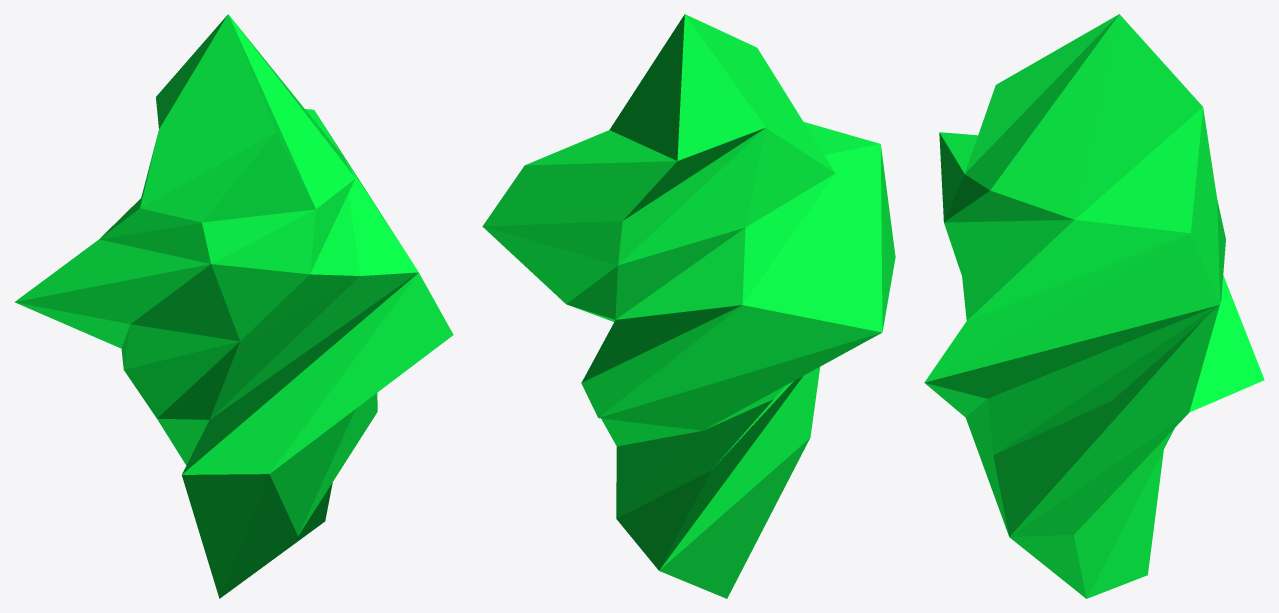
File: Crystal_027.fbx
3 views of the same model, side by side, from view 1: azimuth 30°, elevation 25°; view 2: azimuth 150°, elevation 25°; view 3: azimuth 270°, elevation 25° (orthographic). The views are drawn at different scales.
Parts seen in each view (by area): view 1: Crystal.027; view 2: Crystal.027; view 3: Crystal.027.
Part boxes in pixels (x1=…): Crystal.027: x1=14, y1=14, x2=453, y2=598; Crystal.027: x1=482, y1=14, x2=895, y2=598; Crystal.027: x1=924, y1=14, x2=1264, y2=598.
Bounding box in the file's own units: 315 × 490 × 253.
